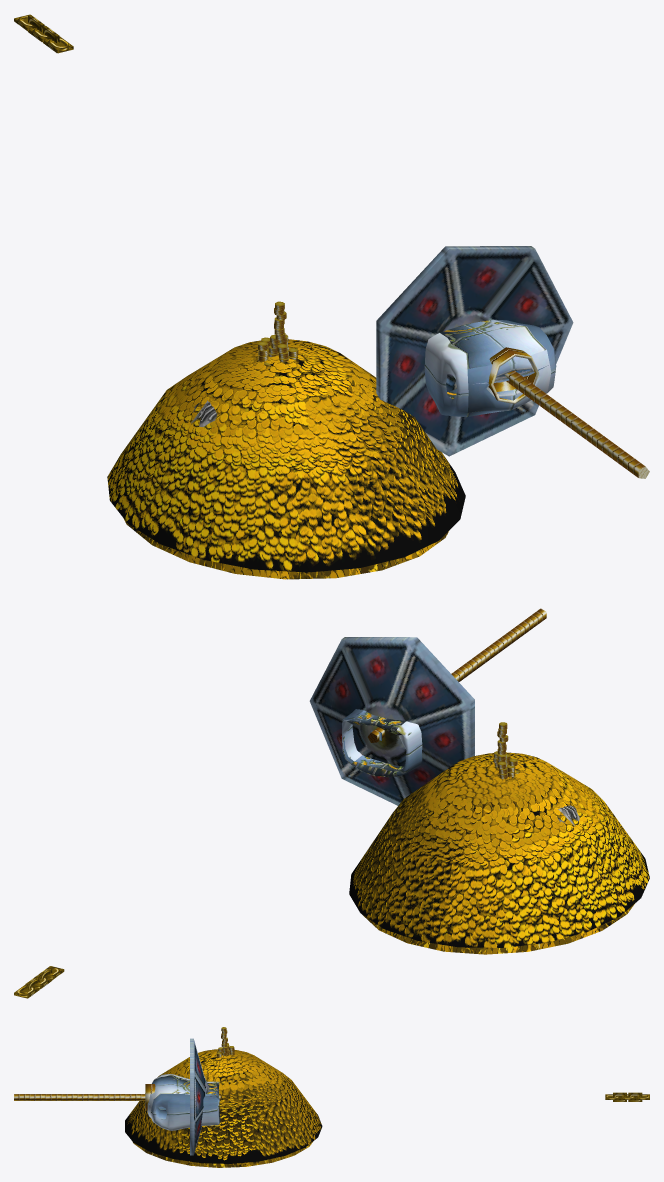
The model's file is INST_SM_TUMBLEC_IDLE.fbx.
3 renders of one model, top to bottom at view 1: azimuth 30°, elevation 25°; view 2: azimuth 150°, elevation 25°; view 3: azimuth 270°, elevation 25°, orthographic. The views are drawn at different scales.
Parts seen in each view (by area): view 1: INST_SM_TUMBLEC_IDLE; view 2: INST_SM_TUMBLEC_IDLE; view 3: INST_SM_TUMBLEC_IDLE.
Boxes of the visible parts, left/top/right/bottom form: INST_SM_TUMBLEC_IDLE: left=14, top=14, right=649, bottom=579; INST_SM_TUMBLEC_IDLE: left=14, top=608, right=649, bottom=998; INST_SM_TUMBLEC_IDLE: left=14, top=1027, right=649, bottom=1167.
Bounding box in the file's own units: 40408 × 23453 × 107290.
Materials: 10 (10 with a texture image).
